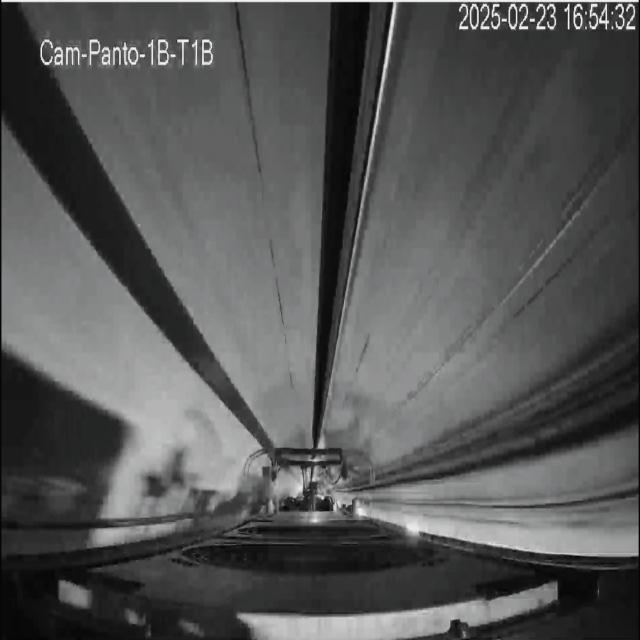Camera Stamp: (36, 30, 221, 71)
Date Stamp: (457, 3, 637, 33)
No - Spark: (190, 447, 420, 575), (253, 366, 367, 461), (243, 442, 364, 516)
Sparks: (242, 445, 272, 483)
